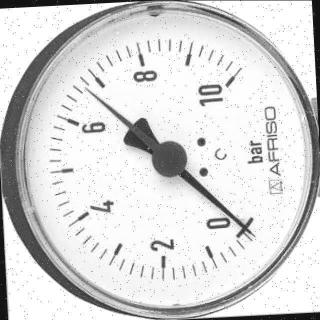gauge: (0, 0, 320, 320), (150, 139, 188, 178), (218, 60, 249, 95), (232, 212, 260, 245), (239, 220, 259, 241), (80, 83, 94, 96)
